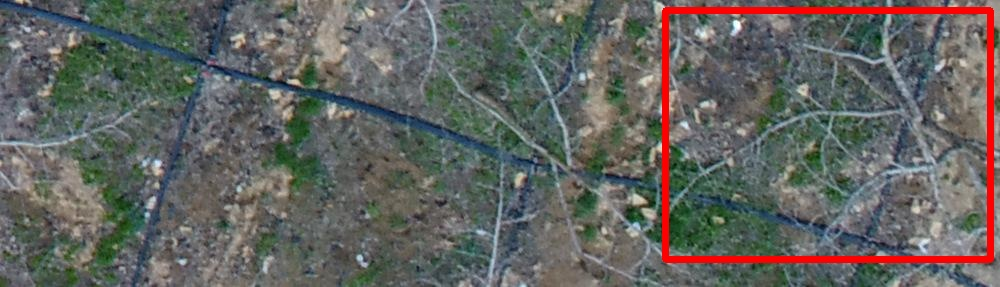apple: (665, 10, 990, 259)
